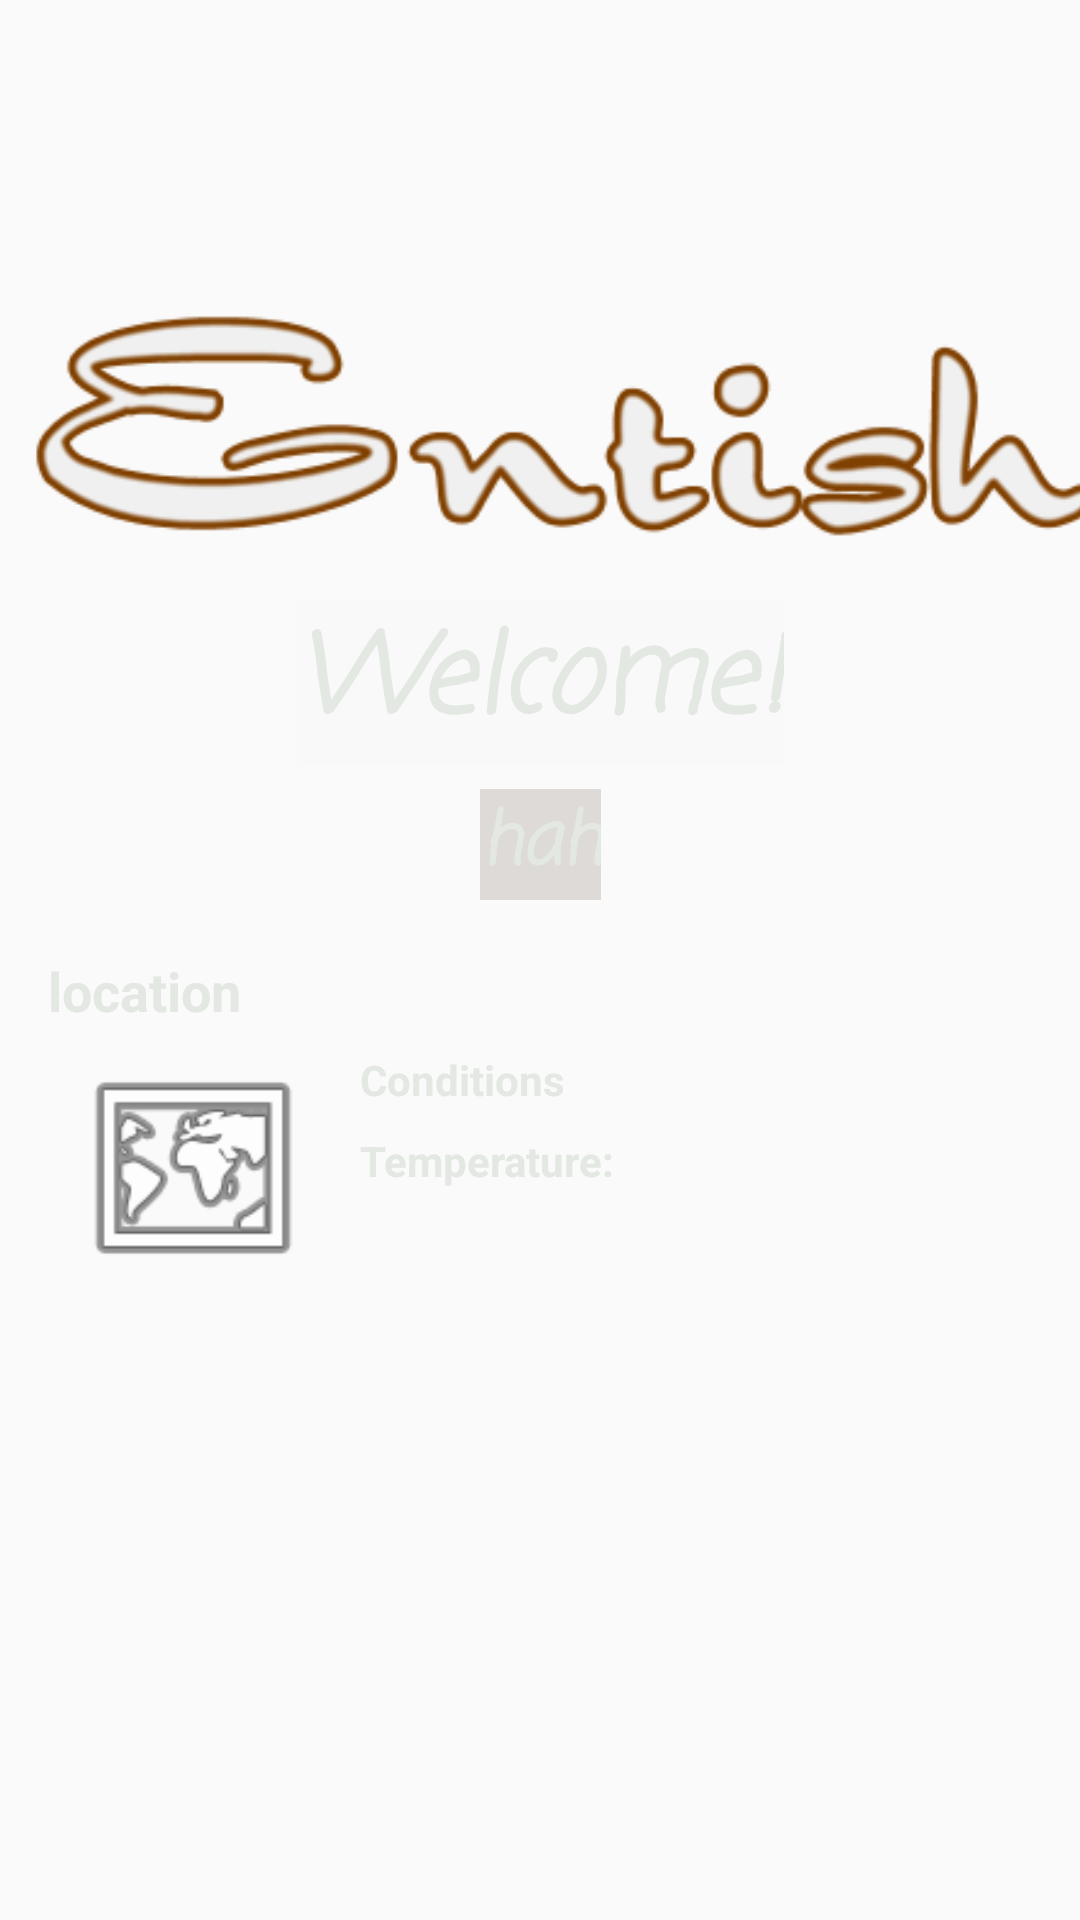

Where to tap for icons on this 1080x1920 app screen, as (x=x, y=y):
mapmode: (x=193, y=1168)
